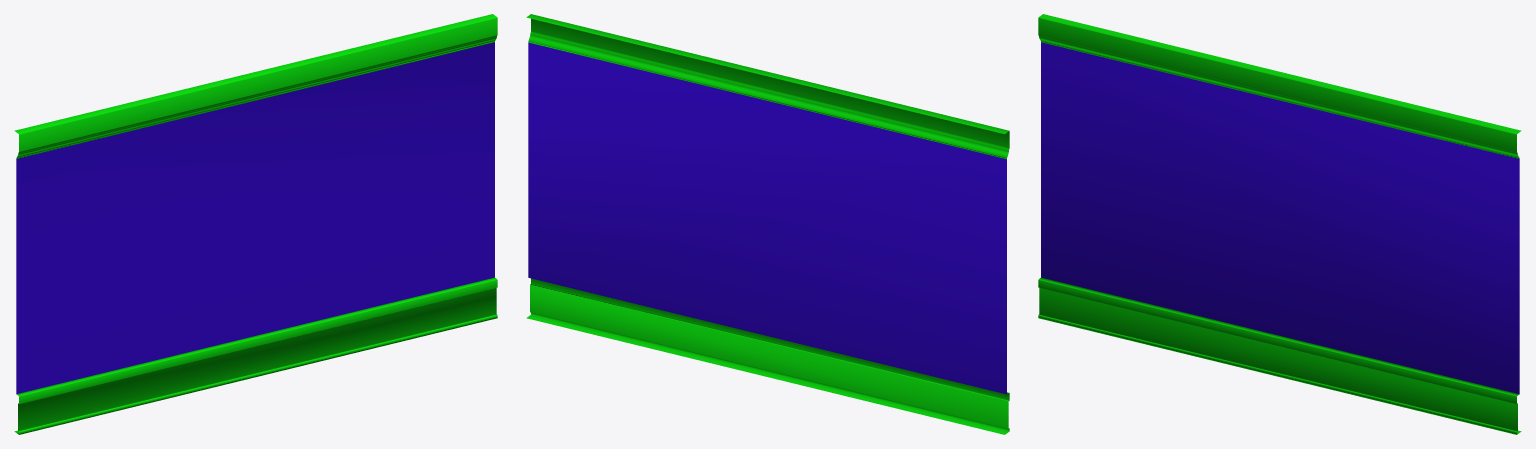
Rendered from C_LongWall.fbx.
3 renders of one model, left to right at view 1: azimuth 30°, elevation 25°; view 2: azimuth 150°, elevation 25°; view 3: azimuth 330°, elevation 25°, orthographic.
Visible parts, largest first — view 1: C_LongWall; view 2: C_LongWall; view 3: C_LongWall.
Boxes of the visible parts, bbox=[...] form: C_LongWall: bbox=[14, 14, 497, 434]; C_LongWall: bbox=[526, 14, 1009, 434]; C_LongWall: bbox=[1038, 14, 1521, 434].
Size of the model in its own units: 522 by 313 by 9.32.
